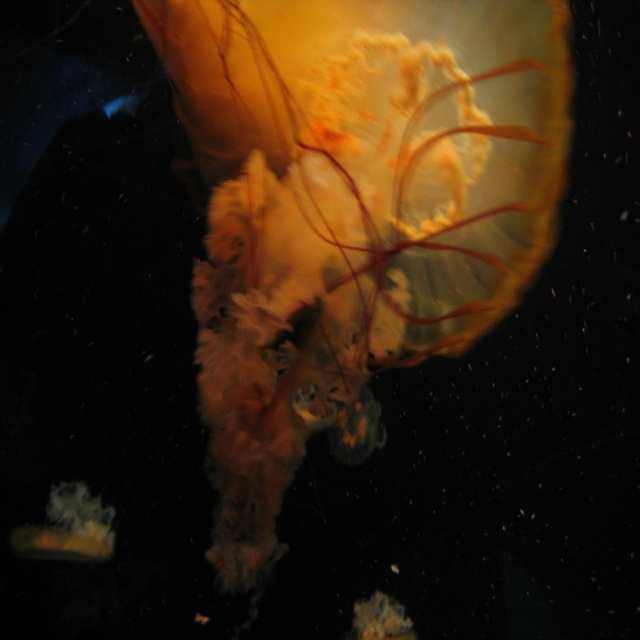Jellyfish: (166, 0, 615, 546)
